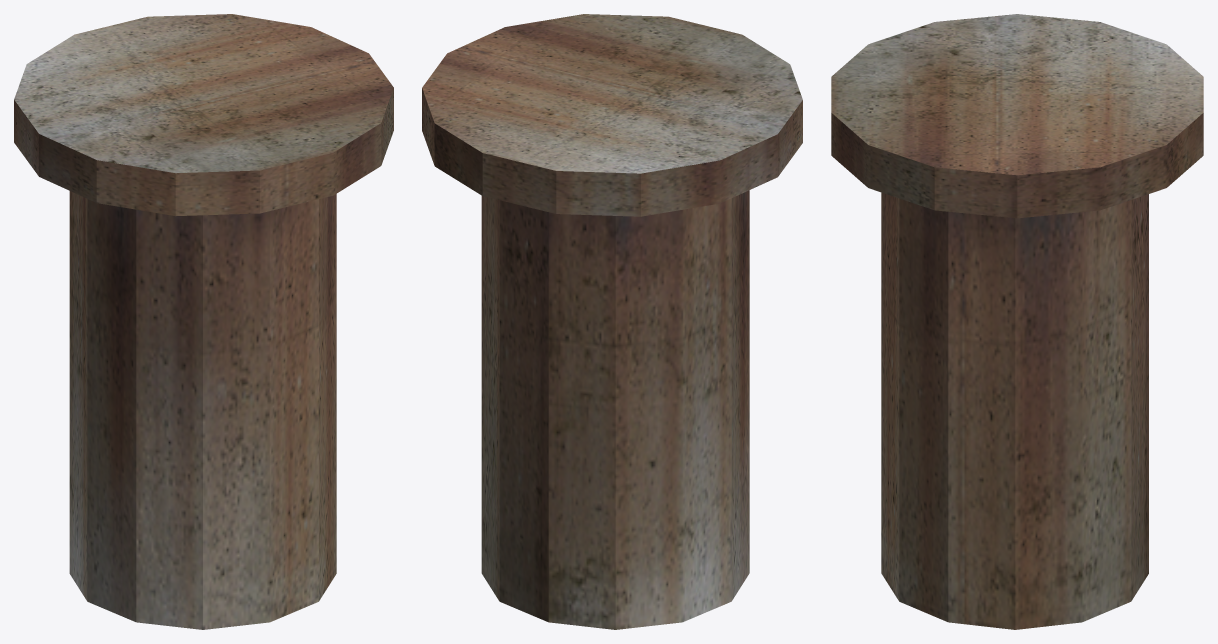
The model's file is pipe_7_lod1.DAE.
The picture shows the model from 3 angles, left to right: view 1: azimuth 30°, elevation 25°; view 2: azimuth 150°, elevation 25°; view 3: azimuth 270°, elevation 25°; orthographic projection.
Parts seen in each view (by area): view 1: Mesh_Object; view 2: Mesh_Object; view 3: Mesh_Object.
Part boxes in pixels (left/top/right/bottom): Mesh_Object: left=14, top=14, right=393, bottom=629; Mesh_Object: left=422, top=14, right=802, bottom=629; Mesh_Object: left=831, top=14, right=1203, bottom=629.
Bounding box in the file's own units: 1.25 × 1.73 × 1.22.
